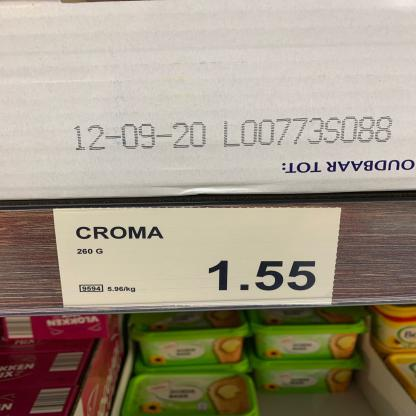prtg: (55, 209, 342, 309)
